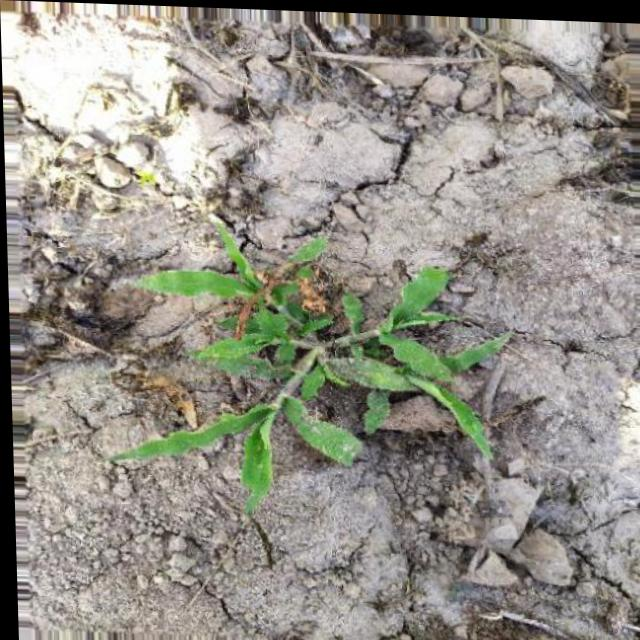weed: (112, 216, 540, 511)
